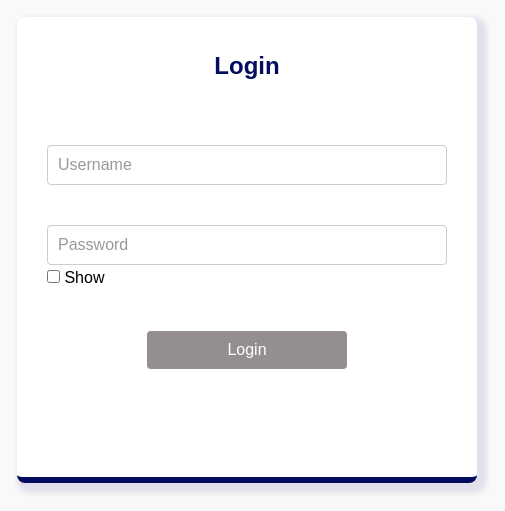
it: Login › enables login button when form is valid
This screenshot has width=505, height=511.
Type "test@example.com" into the field with placeholder "Username". click: (247,165)
box: [47,145,447,185]
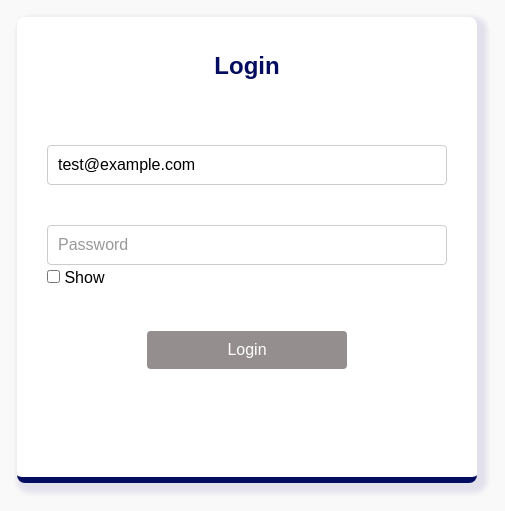
Type "password123" into the password field with placeholder "Password". click: (247,245)
box: [47,225,447,265]
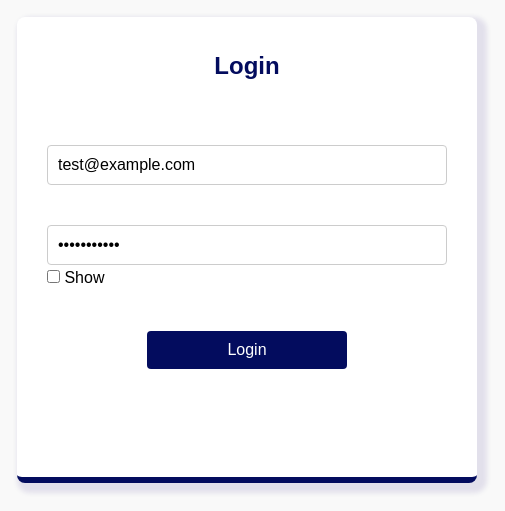
Now the button "Login" is enabled, box [147,331,347,369]
